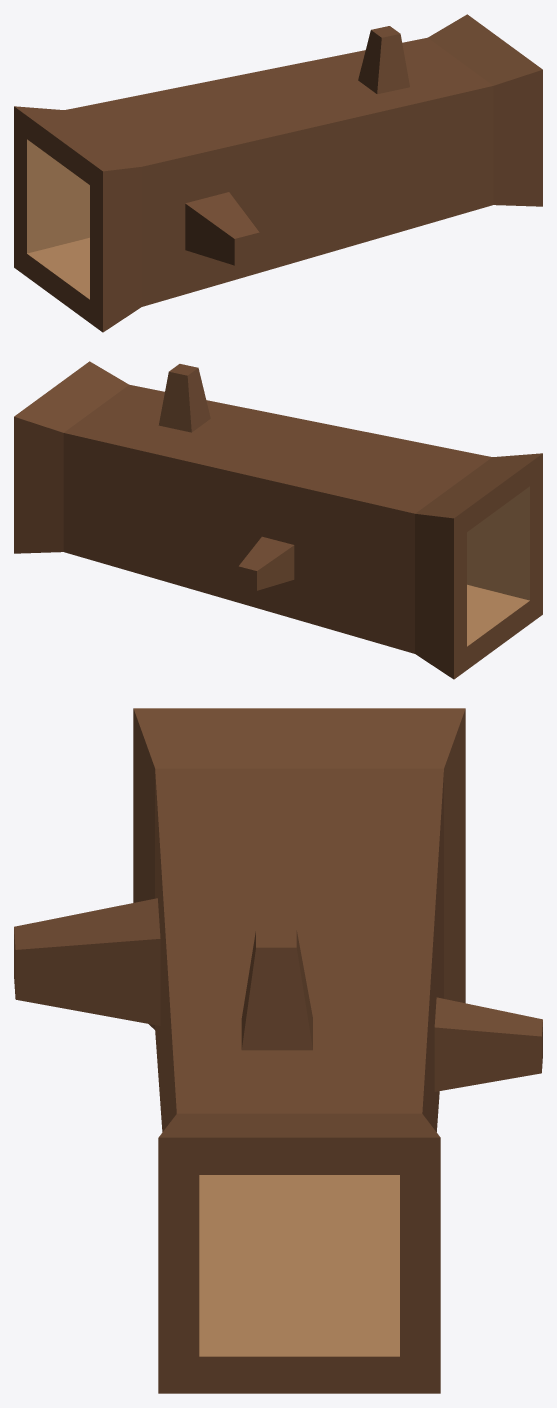
Rendered from fallen-log-safe.glb.
3 renders of one model, top to bottom at view 1: azimuth 30°, elevation 25°; view 2: azimuth 150°, elevation 25°; view 3: azimuth 270°, elevation 25°, orthographic. The views are drawn at different scales.
Visible parts, largest first — view 1: safe-mesh-0-Mesh_log_large, safe-mesh-1-Mesh_log_large_1; view 2: safe-mesh-0-Mesh_log_large, safe-mesh-1-Mesh_log_large_1; view 3: safe-mesh-0-Mesh_log_large, safe-mesh-1-Mesh_log_large_1.
Part boxes in pixels (x1,y1,x2,y2): safe-mesh-0-Mesh_log_large: (14, 14, 542, 332); safe-mesh-1-Mesh_log_large_1: (27, 139, 89, 299); safe-mesh-0-Mesh_log_large: (14, 361, 542, 679); safe-mesh-1-Mesh_log_large_1: (467, 486, 529, 646); safe-mesh-0-Mesh_log_large: (14, 708, 542, 1393); safe-mesh-1-Mesh_log_large_1: (199, 1175, 399, 1356).
Size of the model in its own units: 1 by 0.4167 by 0.5493.
